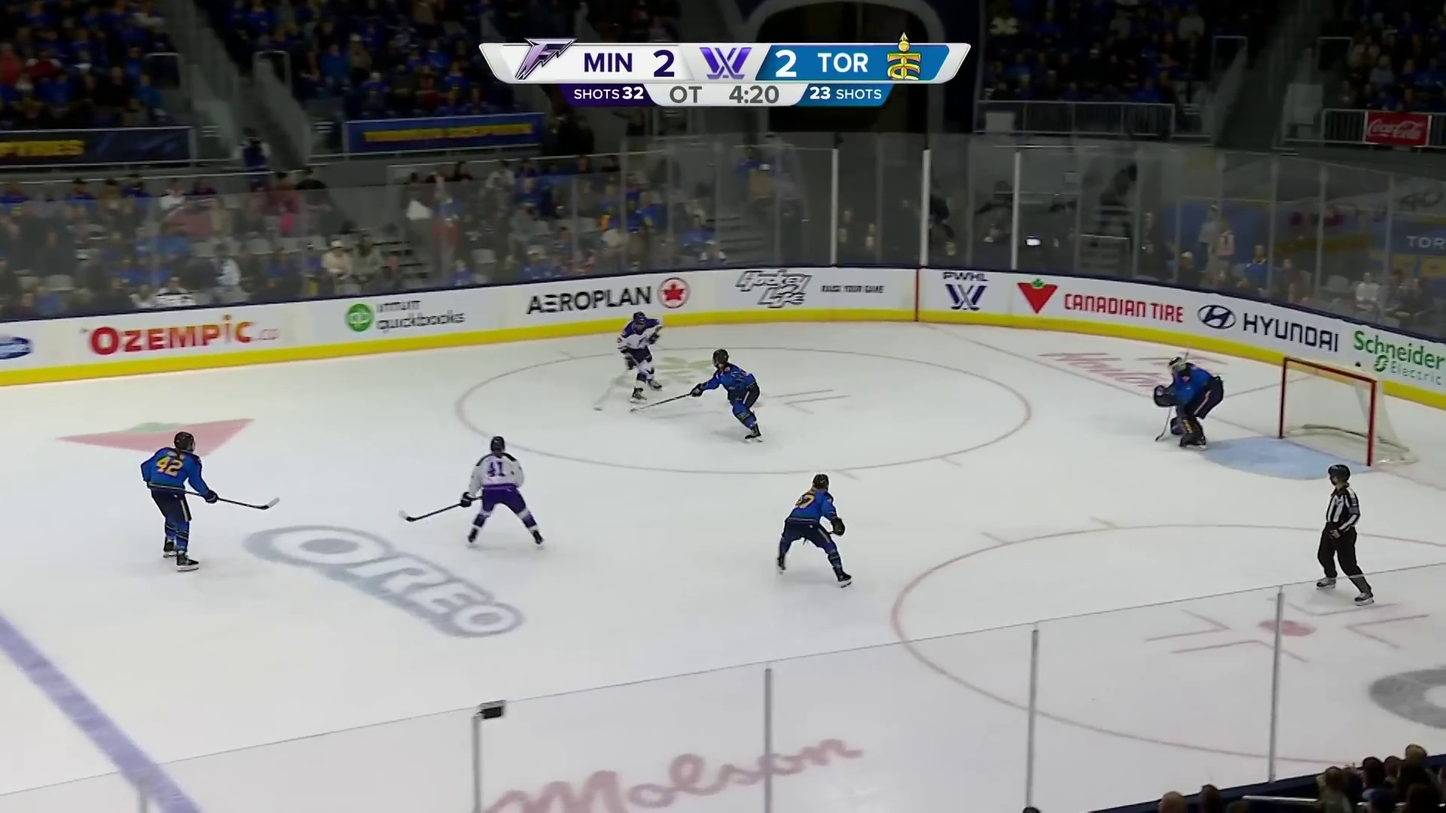goaltender: (1150, 353, 1230, 452)
player: (138, 430, 221, 573), (459, 434, 549, 548), (775, 473, 854, 589), (686, 349, 764, 444), (613, 310, 667, 403)
puck: (592, 405, 609, 416)
referee: (1313, 461, 1373, 603)
